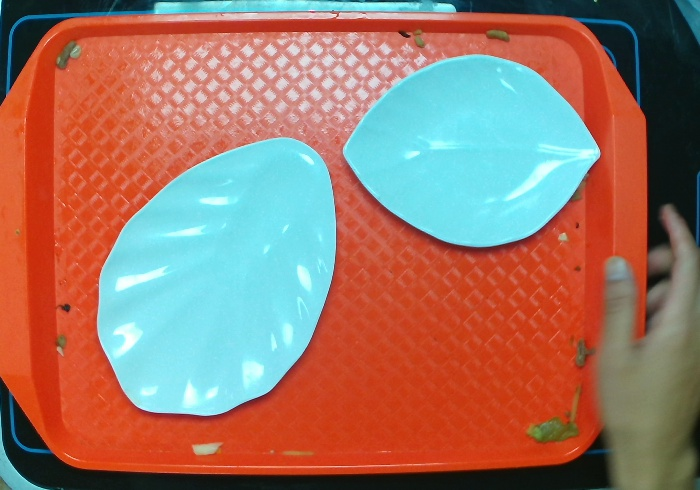RJxy-Bai_Ye_Pan: (85, 130, 344, 430)
RJxy-Da_Du_Pan: (337, 42, 606, 252)
